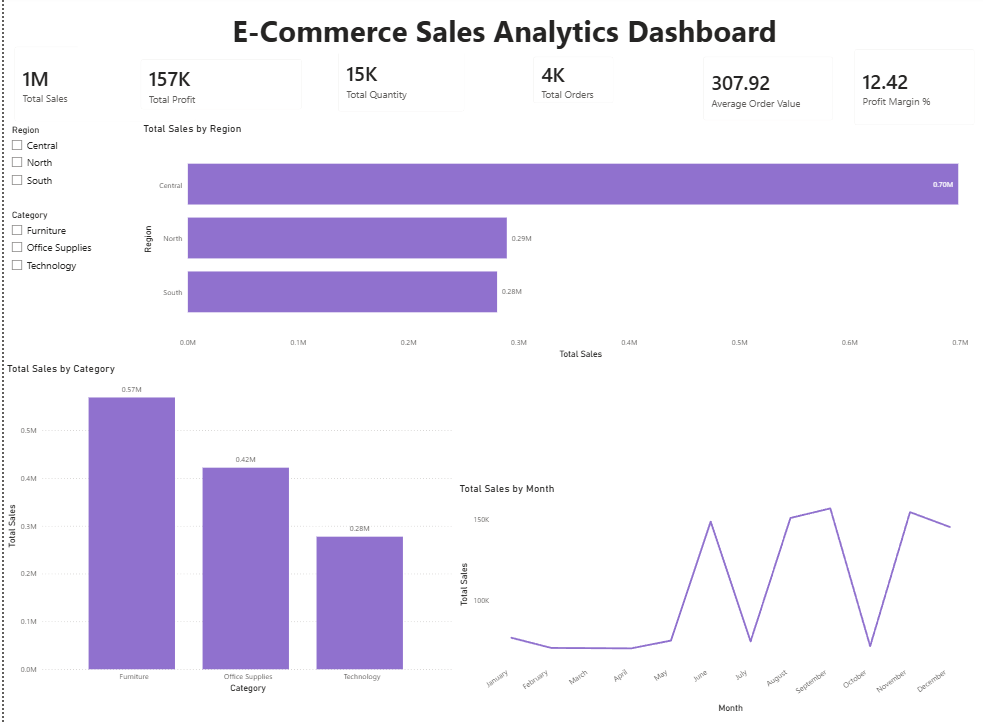

The page's visual inventory and layout, read from the dashboard file:
{"tool":"powerbi","page":{"name":"Page 1","canvas":[1600,1200],"ordinal":0},"visuals":[{"type":"cardVisual","fields":{"Data":["OrderBreakdown.Total Sales"]},"box":[0,67.3,330.2,156.9],"z":0},{"type":"cardVisual","fields":{"Data":["OrderBreakdown.Total Profit"]},"box":[205.8,87.6,297.6,116.2],"z":1000},{"type":"cardVisual","fields":{"Data":["OrderBreakdown.Total Quantity"]},"box":[527.9,67.3,240.5,140.6],"z":2000},{"type":"cardVisual","fields":{"Data":["OrderBreakdown.Total Orders"]},"box":[845.8,83.6,165.1,110.1],"z":3000},{"type":"clusteredColumnChart","fields":{"Category":["OrderBreakdown.Category"],"Y":["OrderBreakdown.Total Sales"]},"box":[0,599.2,737.8,544.2],"z":4000},{"type":"lineChart","fields":{"Category":["ListOfOrders.Order Date.Variation.Date Hierarchy.Year","ListOfOrders.Order Date.Variation.Date Hierarchy.Quarter","ListOfOrders.Order Date.Variation.Date Hierarchy.Month","ListOfOrders.Order Date.Variation.Date Hierarchy.Day"],"Y":["OrderBreakdown.Total Sales"]},"box":[737.8,794.8,835.6,381.1],"z":5000},{"type":"clusteredBarChart","fields":{"Category":["ListOfOrders.Region"],"Y":["OrderBreakdown.Total Sales"]},"box":[222.1,207.9,1377.7,391.3],"z":6000},{"type":"slicer","fields":{"Values":["CategoryTable.Category"]},"box":[0,344.4,189.5,146.7],"z":7000},{"type":"slicer","fields":{"Values":["ListOfOrders.Region"]},"box":[0,205.8,205.8,116.2],"z":8000},{"type":"textbox","box":[120.2,20.4,1233,75.4],"z":9000},{"type":"cardVisual","fields":{"Data":["ListOfOrders.Average Order Value"]},"box":[1123,83.6,246.6,138.6],"z":10000},{"type":"cardVisual","fields":{"Data":["OrderBreakdown.Profit Margin %"]},"box":[1369.6,71.3,230.3,159],"z":11000}]}

Visuals, with their boxes in screenshot pixels (x1, y1, x2, y2), scaled from the page's 1600x1200 canvas onto the 983x724 screenshot:
cardVisual - OrderBreakdown.Total Sales: [0, 41, 203, 135]
cardVisual - OrderBreakdown.Total Profit: [126, 53, 309, 123]
cardVisual - OrderBreakdown.Total Quantity: [324, 41, 472, 125]
cardVisual - OrderBreakdown.Total Orders: [520, 50, 621, 117]
clusteredColumnChart - OrderBreakdown.Category x OrderBreakdown.Total Sales: [0, 362, 453, 690]
lineChart - ListOfOrders.Order Date.Variation.Date Hierarchy.Year x ListOfOrders.Order Date.Variation.Date Hierarchy.Quarter: [453, 480, 967, 709]
clusteredBarChart - ListOfOrders.Region x OrderBreakdown.Total Sales: [136, 125, 982, 362]
slicer - CategoryTable.Category: [0, 208, 116, 296]
slicer - ListOfOrders.Region: [0, 124, 126, 194]
textbox: [74, 12, 831, 58]
cardVisual - ListOfOrders.Average Order Value: [690, 50, 841, 134]
cardVisual - OrderBreakdown.Profit Margin %: [841, 43, 982, 139]
